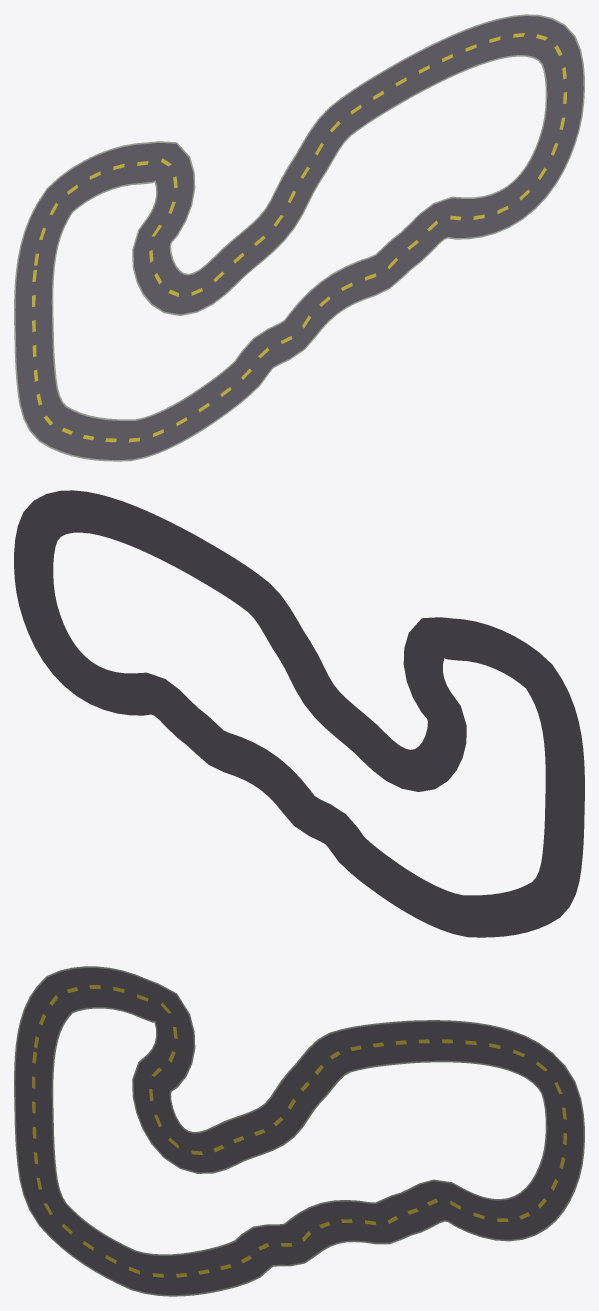
File: track.obj
3 renders of one model, top to bottom at view 1: azimuth 30°, elevation 25°; view 2: azimuth 150°, elevation 25°; view 3: azimuth 330°, elevation 25°, orthographic.
Size of the model in its own units: 15.52 by 9.18 by 0.002.
